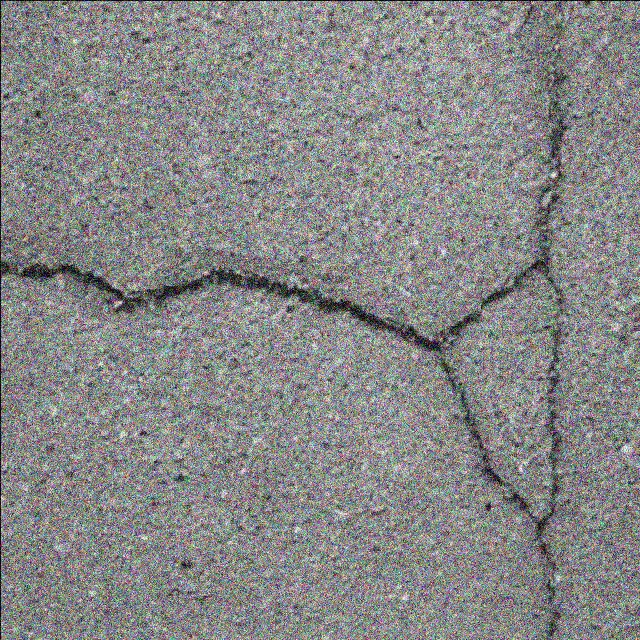SurfaceCrack: (0, 183, 636, 388)
